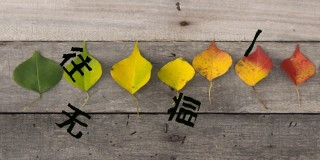一: (244, 27, 263, 59)
前: (167, 92, 202, 128)
往: (60, 45, 92, 82)
无: (55, 103, 91, 139)
